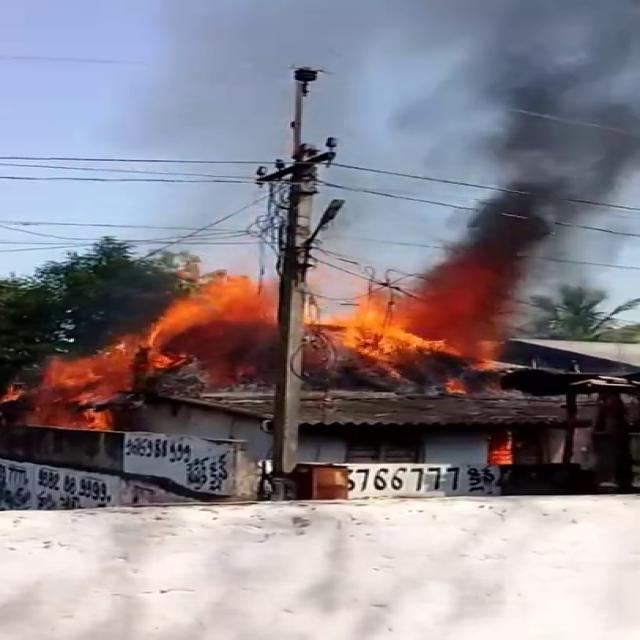Fire: (138, 268, 518, 392), (7, 323, 176, 431)
Smoke: (106, 0, 640, 257)
